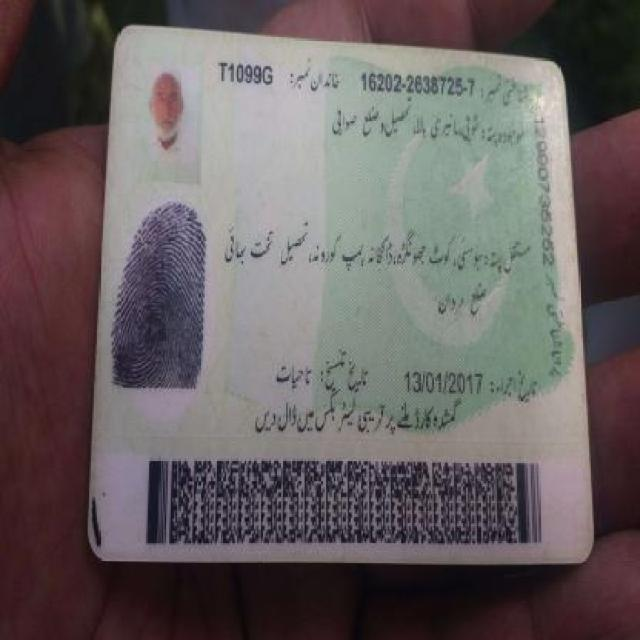Back: (81, 25, 594, 560)
